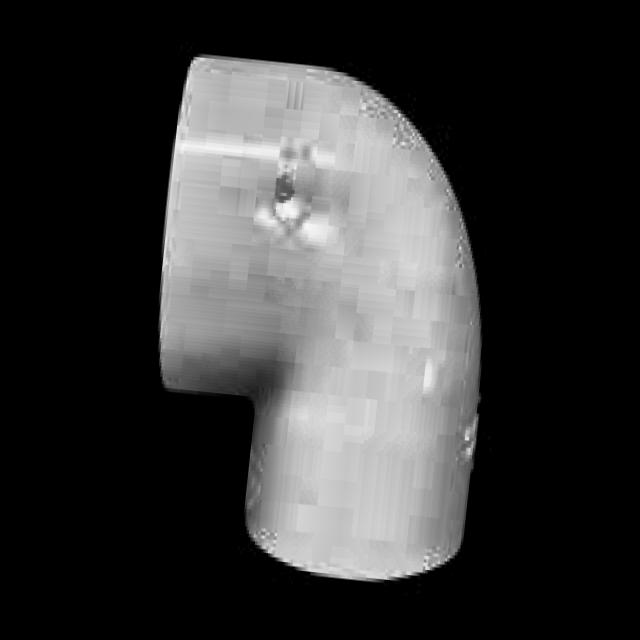ELBOW90: (157, 52, 483, 585)
